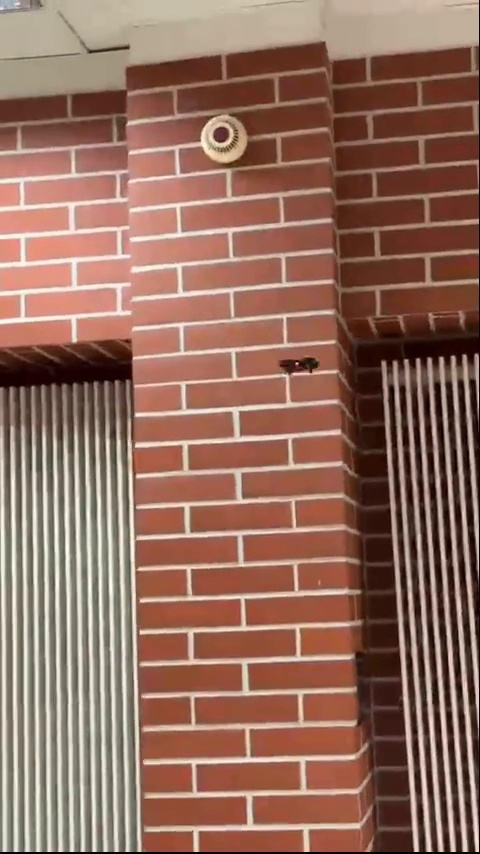drone: (282, 354, 322, 378)
